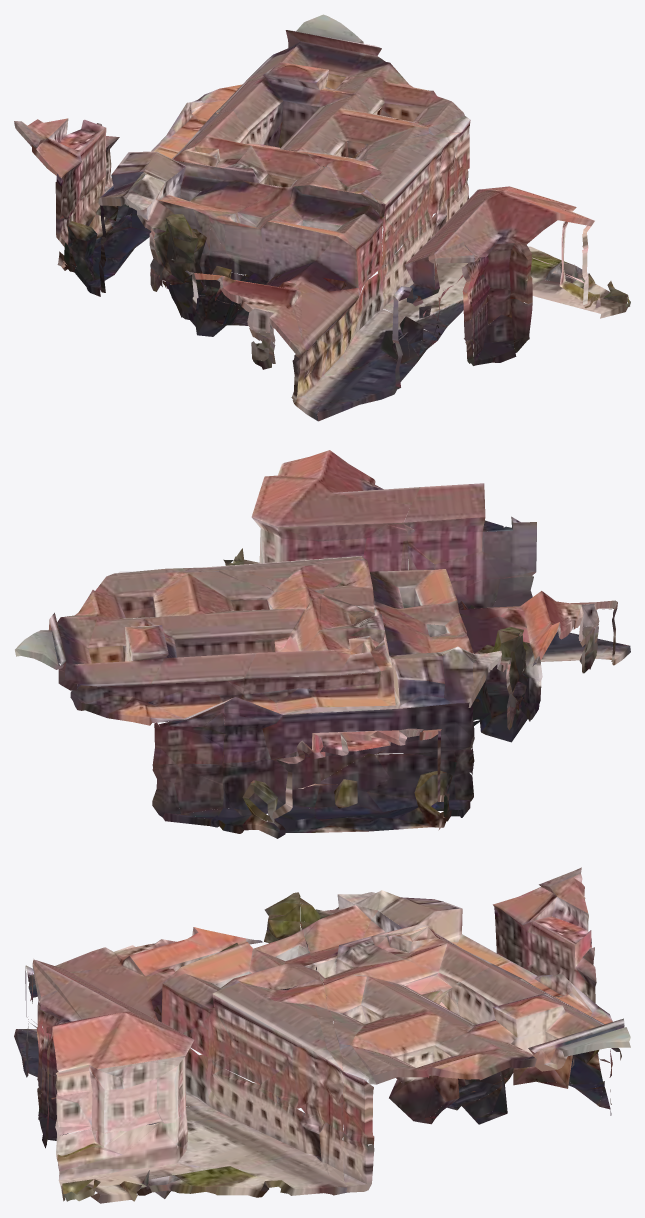
3 views of the same model, one above another, from view 1: azimuth 30°, elevation 25°; view 2: azimuth 150°, elevation 25°; view 3: azimuth 270°, elevation 25° (orthographic). The views are drawn at different scales.
Parts seen in each view (by area): view 1: Mesh_0; view 2: Mesh_0; view 3: Mesh_0.
Boxes of the visible parts, x1,y1,x2,y2 form: Mesh_0: (14, 14, 630, 421); Mesh_0: (15, 450, 630, 838); Mesh_0: (14, 867, 630, 1203).
Bounding box in the file's own units: 66.59 × 22.83 × 82.67.
Materials: 2 (2 with a texture image).
